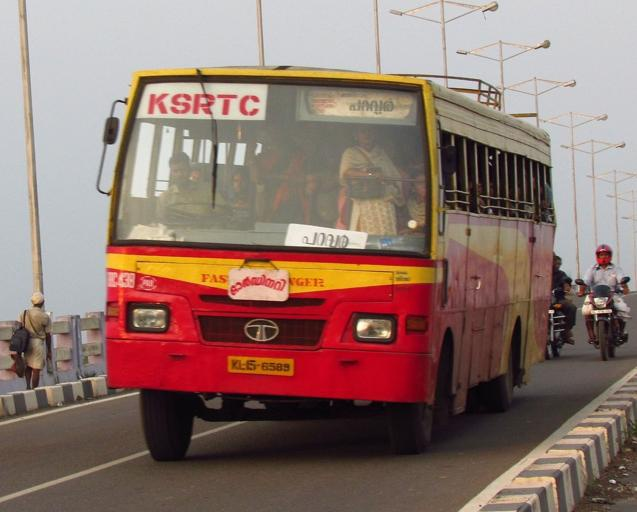non-vehicle: (574, 275, 629, 358), (546, 275, 571, 357)
